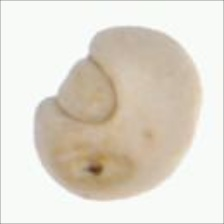L5: (51, 53, 124, 128)
L6: (32, 25, 204, 203)
